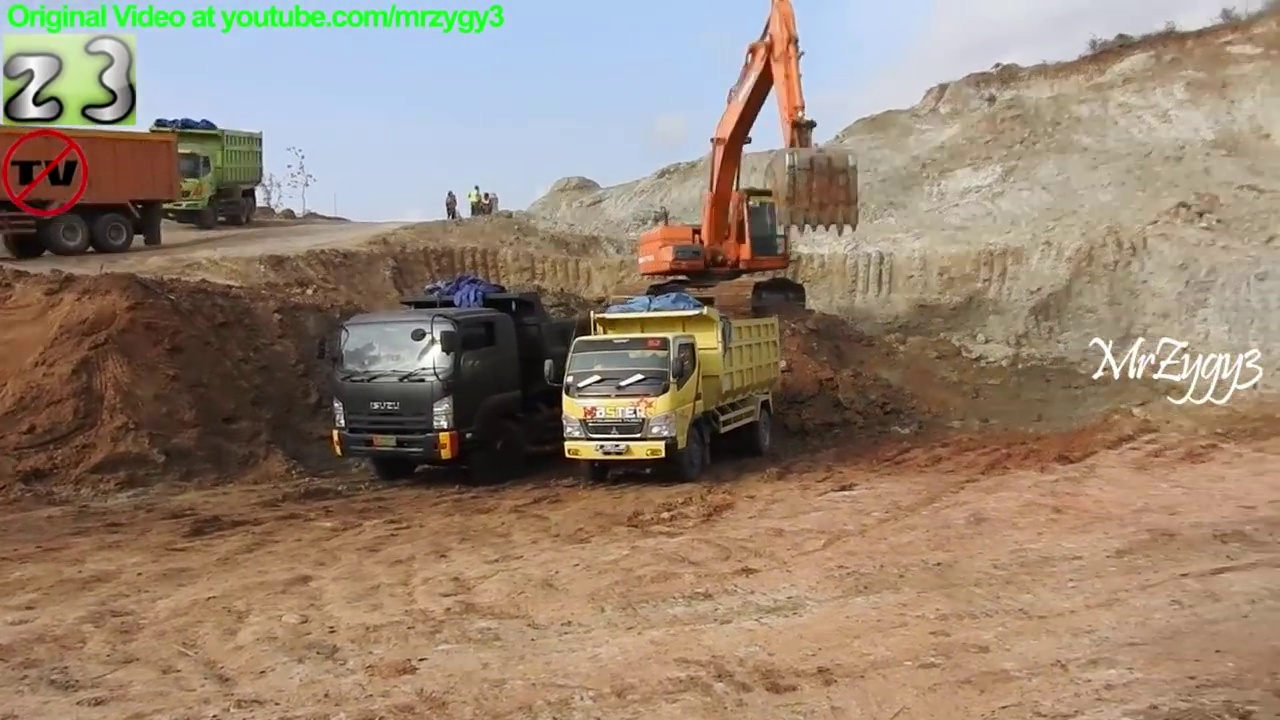excavator: (637, 2, 860, 320)
person: (444, 188, 458, 222), (469, 185, 482, 207), (483, 192, 488, 206)
truck: (317, 286, 609, 479), (542, 304, 784, 482), (4, 124, 182, 251), (155, 117, 268, 230)
